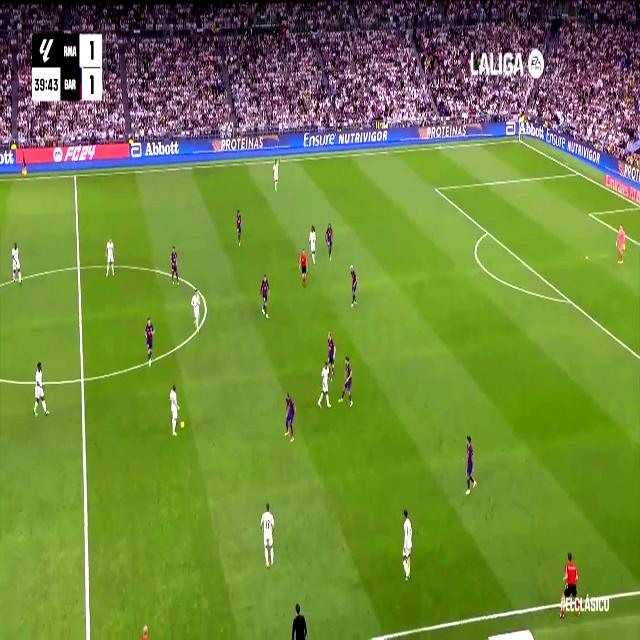bigarea_top_inner: (433, 182, 439, 195)
bigarea_top_outter: (574, 167, 581, 177)
bottom_arc_area_intersection: (565, 292, 573, 308)
corner: (516, 135, 522, 144)
halfcircle_bottom: (76, 365, 88, 392)
halfcircle_top: (72, 255, 84, 279)
midline_top_intersection: (72, 169, 79, 182)
smallarea_top_inner: (588, 208, 592, 218)
top_arc_area_intersection: (484, 224, 490, 238)
